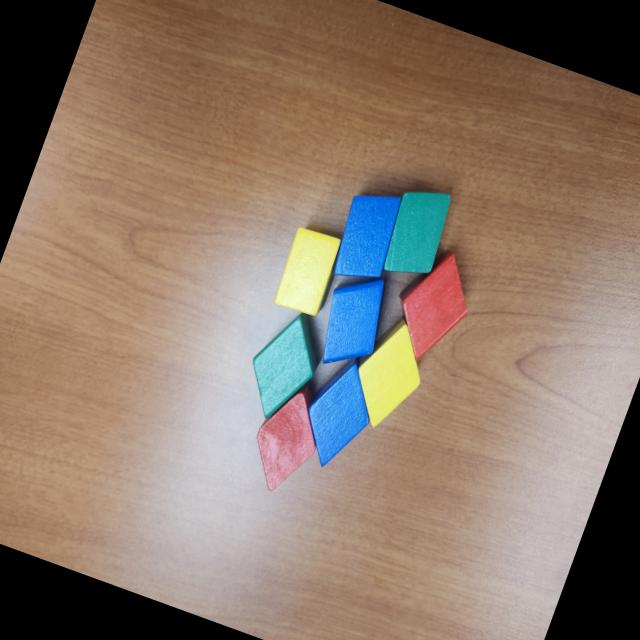blue: (286, 348, 388, 478), (308, 261, 399, 379), (324, 180, 408, 294)
green: (232, 303, 332, 433), (374, 176, 460, 288)
red: (382, 239, 486, 375), (240, 374, 335, 501)
yellow: (340, 311, 439, 438), (270, 223, 348, 322)
